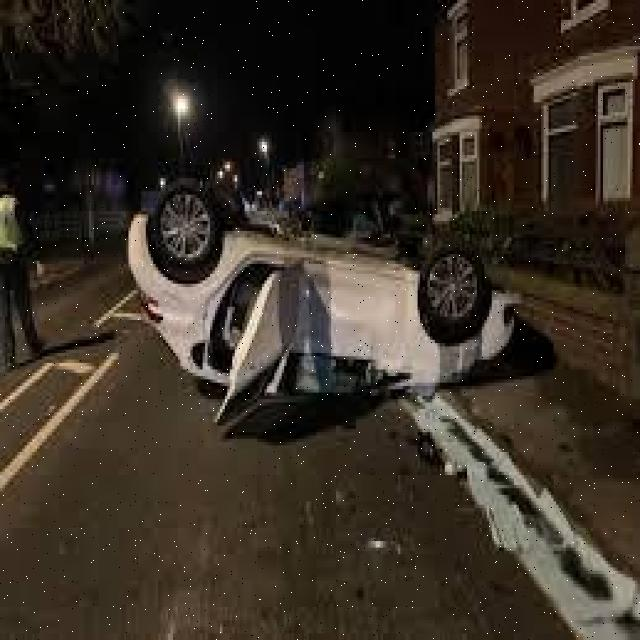severe: (122, 178, 525, 419)
